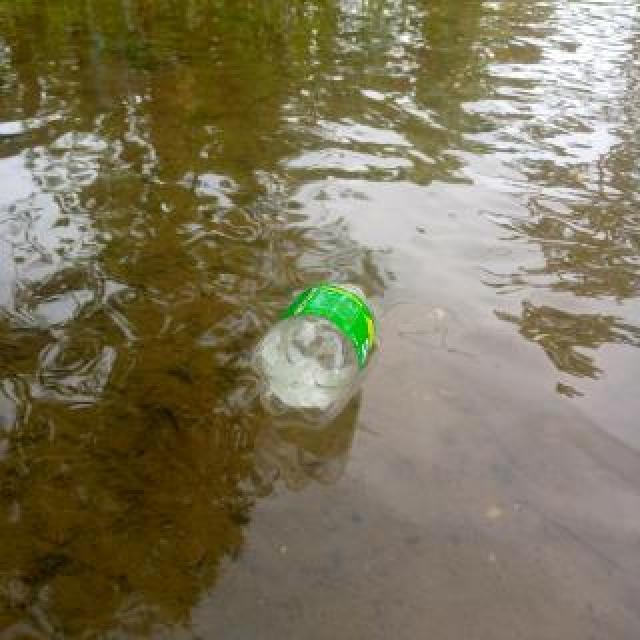bottle: (250, 280, 378, 424)
